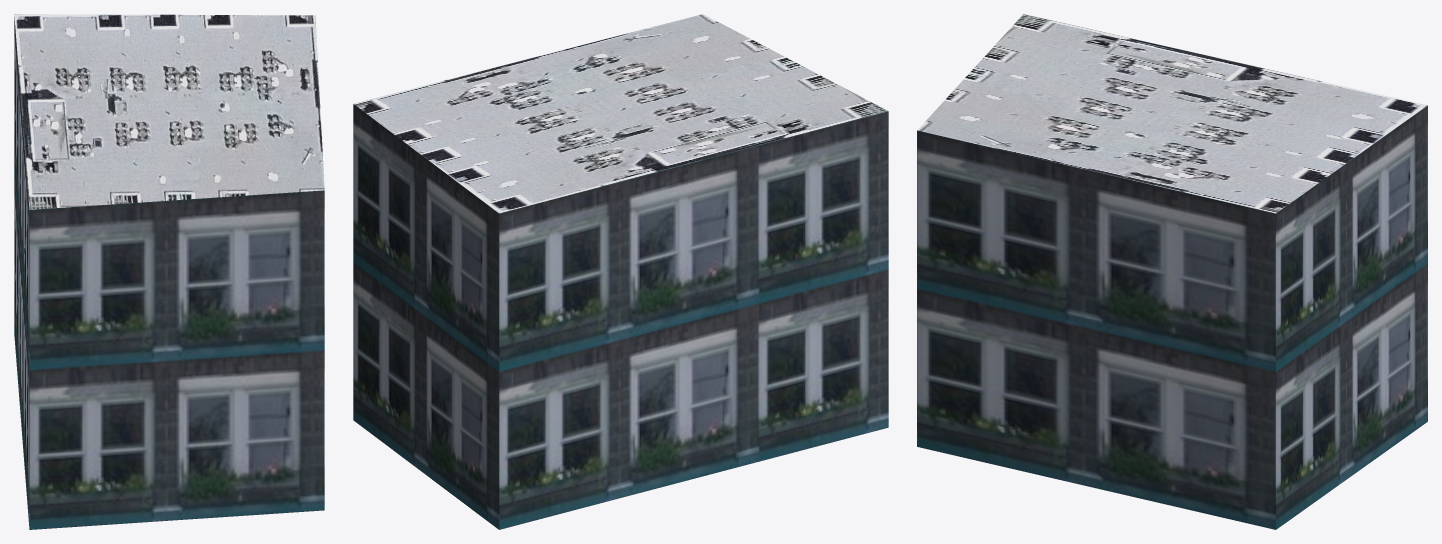
File: ResTex__1234.fbx
The picture shows the model from 3 angles, left to right: view 1: azimuth 30°, elevation 25°; view 2: azimuth 150°, elevation 25°; view 3: azimuth 270°, elevation 25°; orthographic projection.
Parts seen in each view (by area): view 1: CityEngineMaterial_11_m, CityEngineMaterial_m; view 2: CityEngineMaterial_11_m, CityEngineMaterial_m; view 3: CityEngineMaterial_11_m, CityEngineMaterial_m.
Boxes of the visible parts, x1,y1,x2,y2 form: CityEngineMaterial_11_m: (14,17,324,529); CityEngineMaterial_m: (14,14,324,209); CityEngineMaterial_11_m: (353,104,888,529); CityEngineMaterial_m: (353,14,888,213); CityEngineMaterial_11_m: (917,105,1427,529); CityEngineMaterial_m: (917,14,1427,213).
Bounding box in the file's own units: 8.12 × 6 × 8.78.
Materials: 2 (2 with a texture image).
